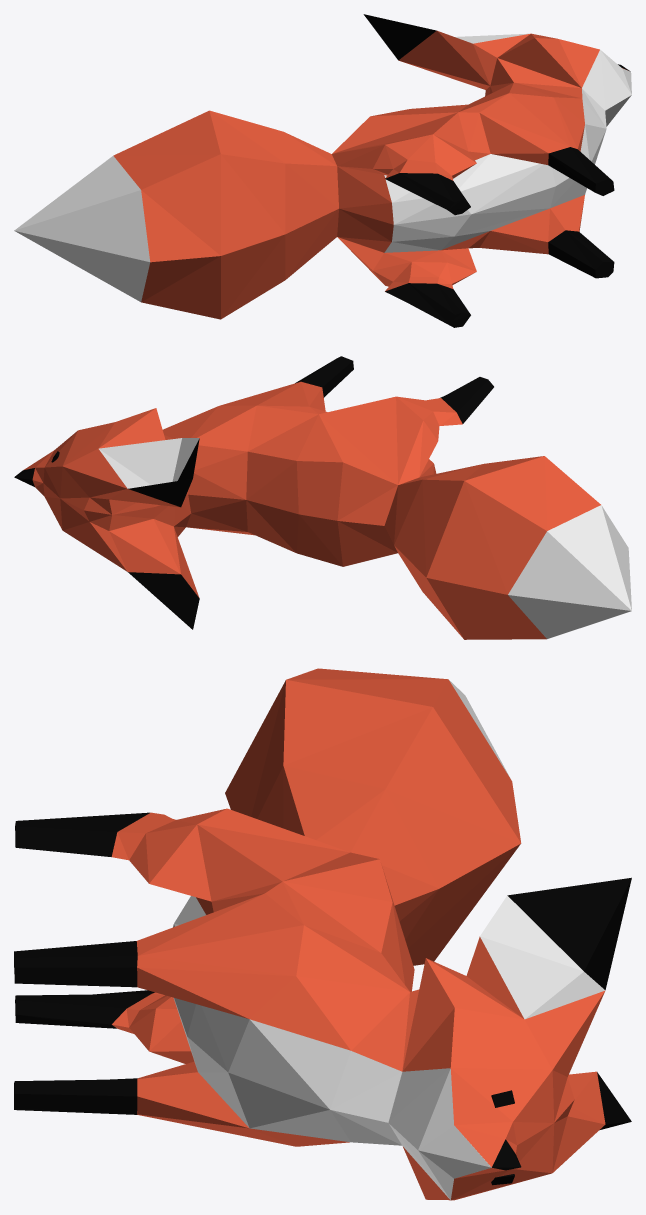
Rendered from Fox.dae.
The picture shows the model from 3 angles, top to bottom: view 1: azimuth 30°, elevation 25°; view 2: azimuth 150°, elevation 25°; view 3: azimuth 270°, elevation 25°; orthographic projection. The views are drawn at different scales.
Parts seen in each view (by area): view 1: Floof; view 2: Floof; view 3: Floof.
Part boxes in pixels (x1=…): Floof: x1=14, y1=14, x2=631, y2=327; Floof: x1=14, y1=356, x2=631, y2=639; Floof: x1=14, y1=668, x2=631, y2=1200.
Size of the model in its own units: 2.77 by 1.53 by 0.7094.
